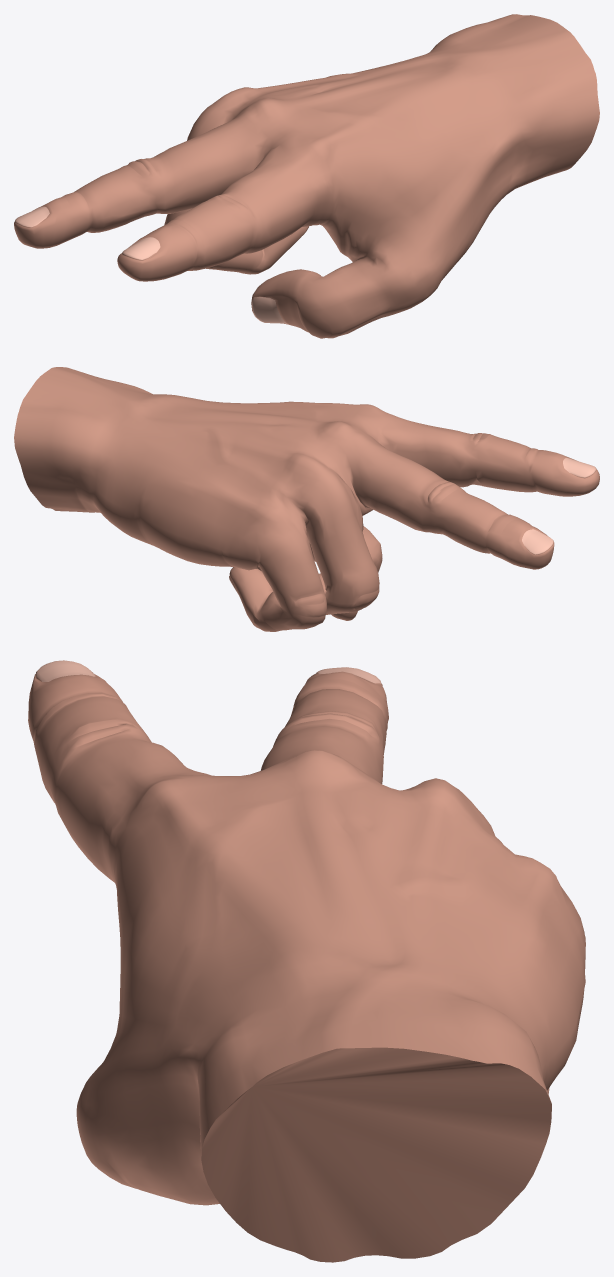
The model's file is hand_30.obj.
3 views of the same model, one above another, from view 1: azimuth 30°, elevation 25°; view 2: azimuth 150°, elevation 25°; view 3: azimuth 270°, elevation 25° (orthographic). The views are drawn at different scales.
Parts seen in each view (by area): view 1: Figure_2; view 2: Figure_2; view 3: Figure_2.
Boxes of the visible parts, x1,y1,x2,y2 form: Figure_2: (14, 14, 599, 338); Figure_2: (14, 367, 599, 631); Figure_2: (28, 660, 585, 1262).
Size of the model in its own units: 0.8968 by 0.3387 by 0.4295.
